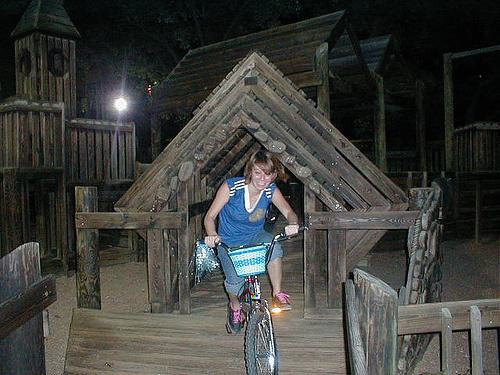car: (203, 224, 310, 375)
person: (204, 151, 299, 335)
